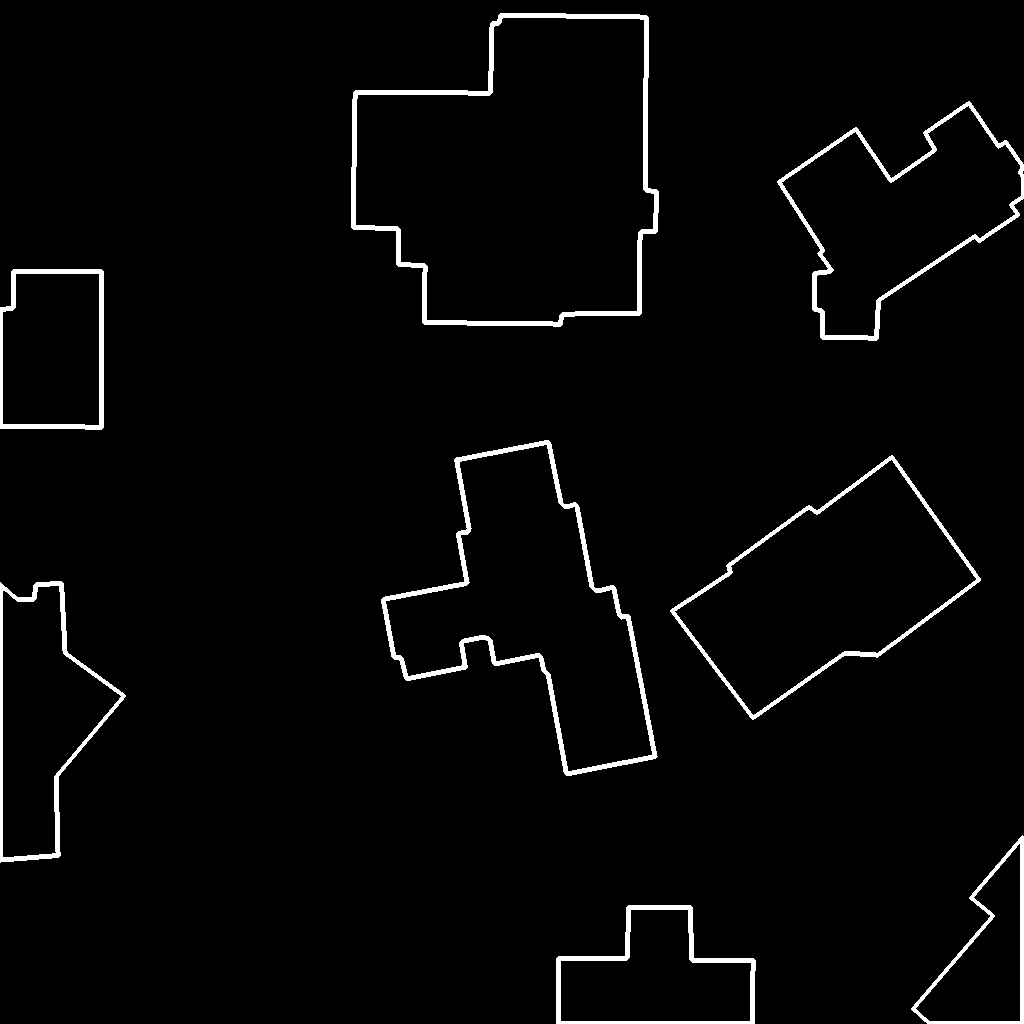building: (353, 15, 657, 325), (383, 442, 656, 775), (672, 457, 980, 719), (779, 103, 1024, 339), (0, 583, 125, 861), (558, 907, 754, 1024), (913, 837, 1024, 1024), (0, 271, 103, 428)
